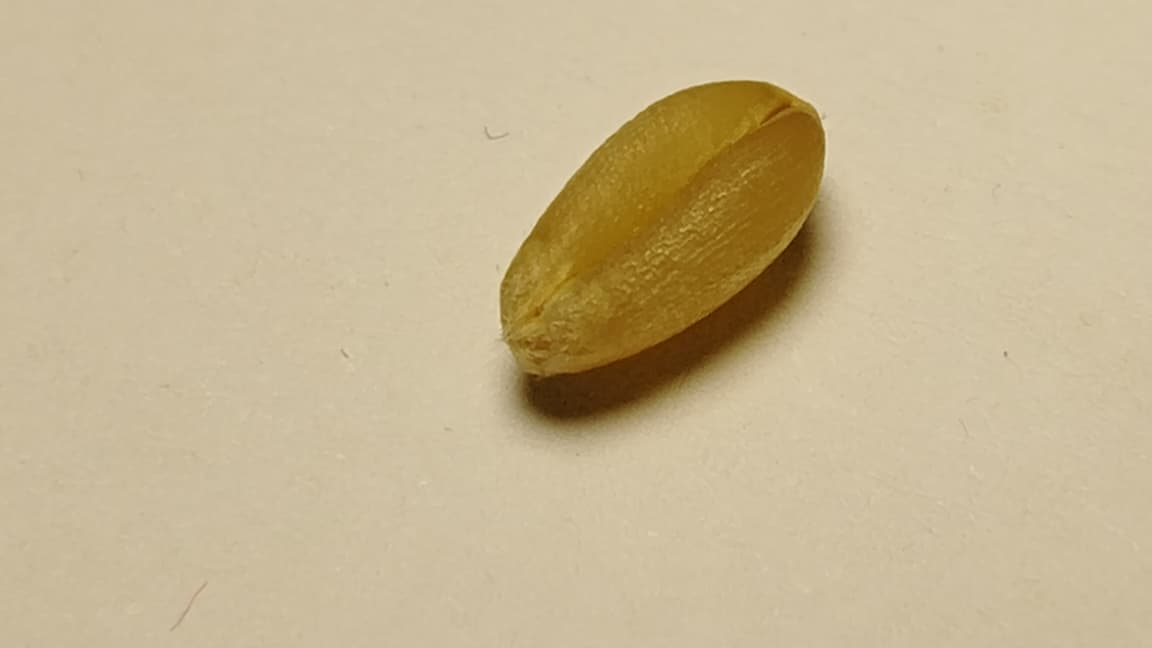healthy: (500, 80, 825, 376)
